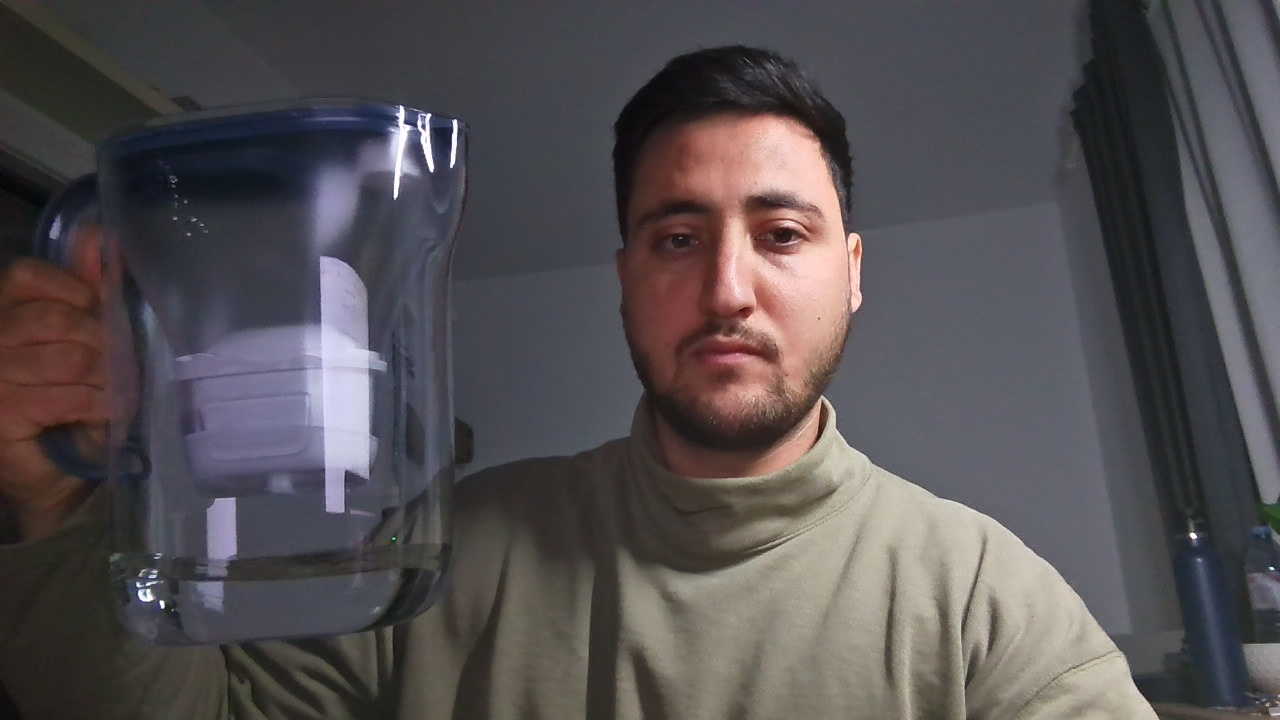Wasserflasche: (1159, 499, 1250, 716)
Wasserkanne: (40, 82, 488, 643)
me: (578, 32, 890, 490)
